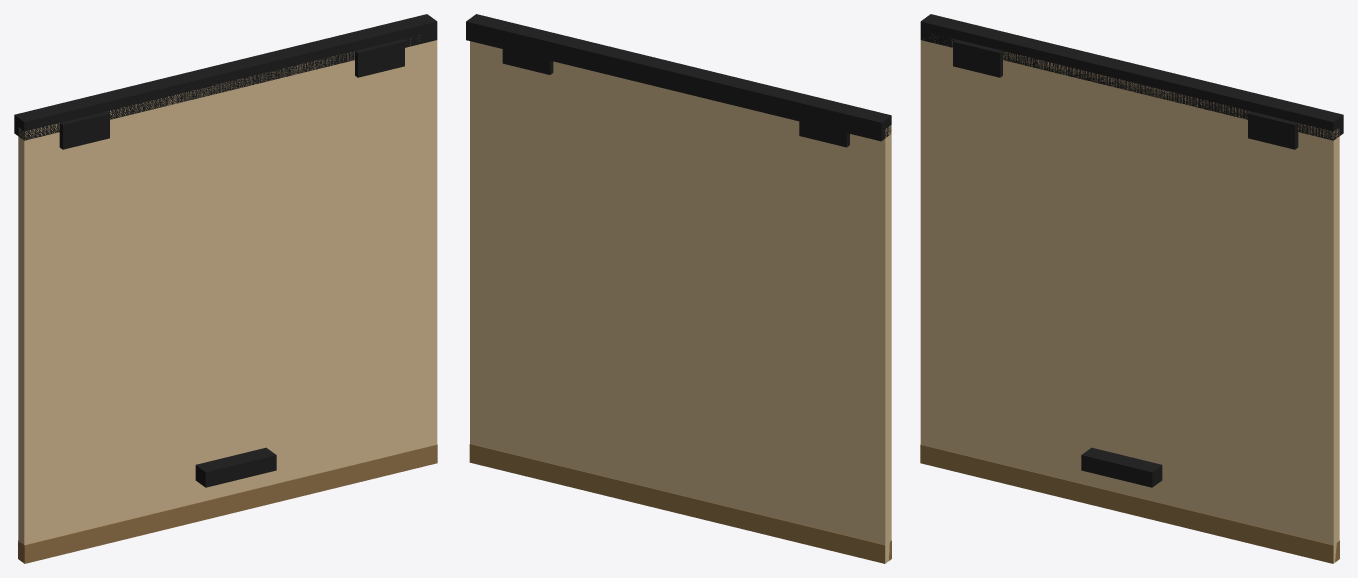
File: idpa.port-flap-top.glb
3 views of the same model, side by side, from view 1: azimuth 30°, elevation 25°; view 2: azimuth 150°, elevation 25°; view 3: azimuth 330°, elevation 25° (orthographic).
Visible parts, largest first — view 1: open, idpa.port-flap-top; view 2: open, idpa.port-flap-top; view 3: open, idpa.port-flap-top.
Part boxes in pixels (x1,y1,x2,y2): open: (18,35,437,563); idpa.port-flap-top: (14,14,437,140); open: (469,41,891,563); idpa.port-flap-top: (466,14,891,141); open: (920,34,1339,563); idpa.port-flap-top: (920,14,1343,140).
Size of the model in its own units: 0.7 by 0.715 by 0.06.
